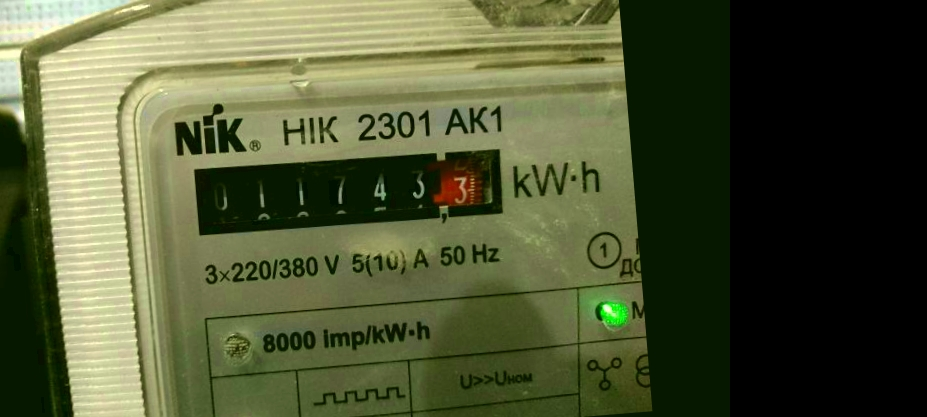0: (208, 177, 230, 214)
1: (291, 171, 309, 206), (254, 175, 267, 208)
3: (405, 165, 427, 201), (450, 173, 470, 207)
4: (368, 168, 388, 203)
7: (329, 170, 350, 205)
screen: (177, 130, 518, 251)
